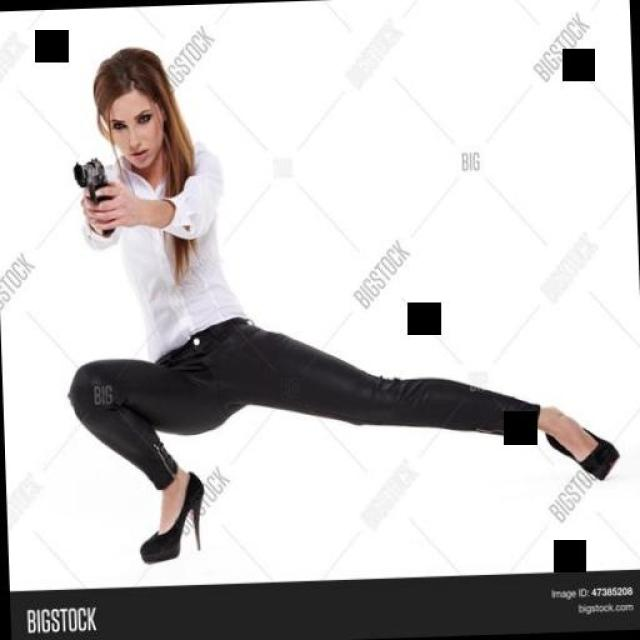gun: (71, 155, 115, 234)
